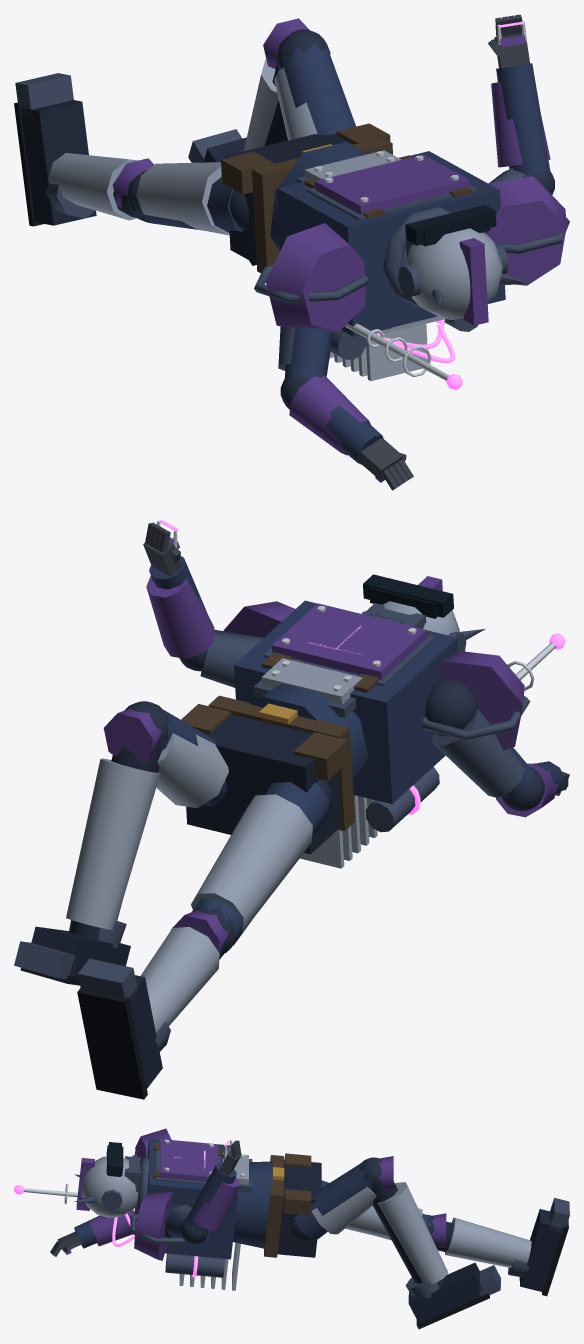
Rendered from hero_tempest_downed.glb.
The picture shows the model from 3 angles, top to bottom: view 1: azimuth 30°, elevation 25°; view 2: azimuth 150°, elevation 25°; view 3: azimuth 270°, elevation 25°; orthographic projection. The views are drawn at different scales.
Visible parts, largest first — view 1: hero_tempest_downed_chest, hero_tempest_downed_pauldron-1, hero_tempest_downed_pauldron1, hero_tempest_downed_chest_plate_face, hero_tempest_downed_helmet, hero_tempest_downed_boot_l, hero_tempest_downed_thigh_plate_l, hero_tempest_downed_thigh_r, hero_tempest_downed_forearm_r, hero_tempest_downed_greave_l, hero_tempest_downed_belt, hero_tempest_downed_bracer_l (+34 smaller); view 2: hero_tempest_downed_chest, hero_tempest_downed_greave_r, hero_tempest_downed_pelvis, hero_tempest_downed_thigh_plate_l, hero_tempest_downed_chest_plate_face, hero_tempest_downed_boot_sole_l, hero_tempest_downed_greave_l, hero_tempest_downed_pauldron-1, hero_tempest_downed_thigh_plate_r, hero_tempest_downed_bicep_plate_l, hero_tempest_downed_bracer_r, hero_tempest_downed_abdomen (+27 smaller); view 3: hero_tempest_downed_greave_r, hero_tempest_downed_chest, hero_tempest_downed_greave_l, hero_tempest_downed_abdomen, hero_tempest_downed_boot_r, hero_tempest_downed_chest_plate_face, hero_tempest_downed_pelvis, hero_tempest_downed_helmet, hero_tempest_downed_thigh_r, hero_tempest_downed_boot_l, hero_tempest_downed_pauldron1, hero_tempest_downed_thigh_plate_r (+31 smaller).
Part boxes in pixels (<box>): hero_tempest_downed_chest: <box>277,151,505,336</box>; hero_tempest_downed_pauldron-1: <box>266,223,365,332</box>; hero_tempest_downed_pauldron1: <box>487,176,566,285</box>; hero_tempest_downed_chest_plate_face: <box>315,154,469,214</box>; hero_tempest_downed_helmet: <box>405,228,502,319</box>; hero_tempest_downed_boot_l: <box>20,100,96,225</box>; hero_tempest_downed_thigh_plate_l: <box>136,162,229,235</box>; hero_tempest_downed_thigh_r: <box>277,44,355,135</box>; hero_tempest_downed_forearm_r: <box>496,63,550,175</box>; hero_tempest_downed_greave_l: <box>48,153,138,220</box>; hero_tempest_downed_belt: <box>251,137,392,273</box>; hero_tempest_downed_bracer_l: <box>289,375,370,455</box>; hero_tempest_downed_chest: <box>234,600,458,804</box>; hero_tempest_downed_greave_r: <box>66,758,160,929</box>; hero_tempest_downed_pelvis: <box>186,714,340,854</box>; hero_tempest_downed_thigh_plate_l: <box>191,794,312,931</box>; hero_tempest_downed_chest_plate_face: <box>272,603,427,679</box>; hero_tempest_downed_boot_sole_l: <box>77,988,147,1099</box>; hero_tempest_downed_greave_l: <box>140,927,219,1032</box>; hero_tempest_downed_pauldron-1: <box>438,651,524,750</box>; hero_tempest_downed_thigh_plate_r: <box>156,733,228,807</box>; hero_tempest_downed_bicep_plate_l: <box>432,708,524,797</box>; hero_tempest_downed_bracer_r: <box>146,576,214,659</box>; hero_tempest_downed_abdomen: <box>250,683,368,783</box>; hero_tempest_downed_greave_r: <box>377,1182,448,1284</box>; hero_tempest_downed_chest: <box>147,1138,238,1259</box>; hero_tempest_downed_greave_l: <box>445,1217,531,1267</box>; hero_tempest_downed_abdomen: <box>233,1161,272,1248</box>; hero_tempest_downed_boot_r: <box>408,1262,482,1323</box>; hero_tempest_downed_chest_plate_face: <box>160,1139,217,1181</box>; hero_tempest_downed_pelvis: <box>277,1159,321,1257</box>; hero_tempest_downed_helmet: <box>81,1156,138,1217</box>; hero_tempest_downed_thigh_r: <box>294,1163,373,1239</box>; hero_tempest_downed_boot_l: <box>519,1209,562,1291</box>; hero_tempest_downed_pauldron1: <box>134,1191,172,1260</box>; hero_tempest_downed_thigh_plate_r: <box>311,1187,376,1234</box>.
Bounding box in the file's own units: 0.8862 × 0.8827 × 2.11.
